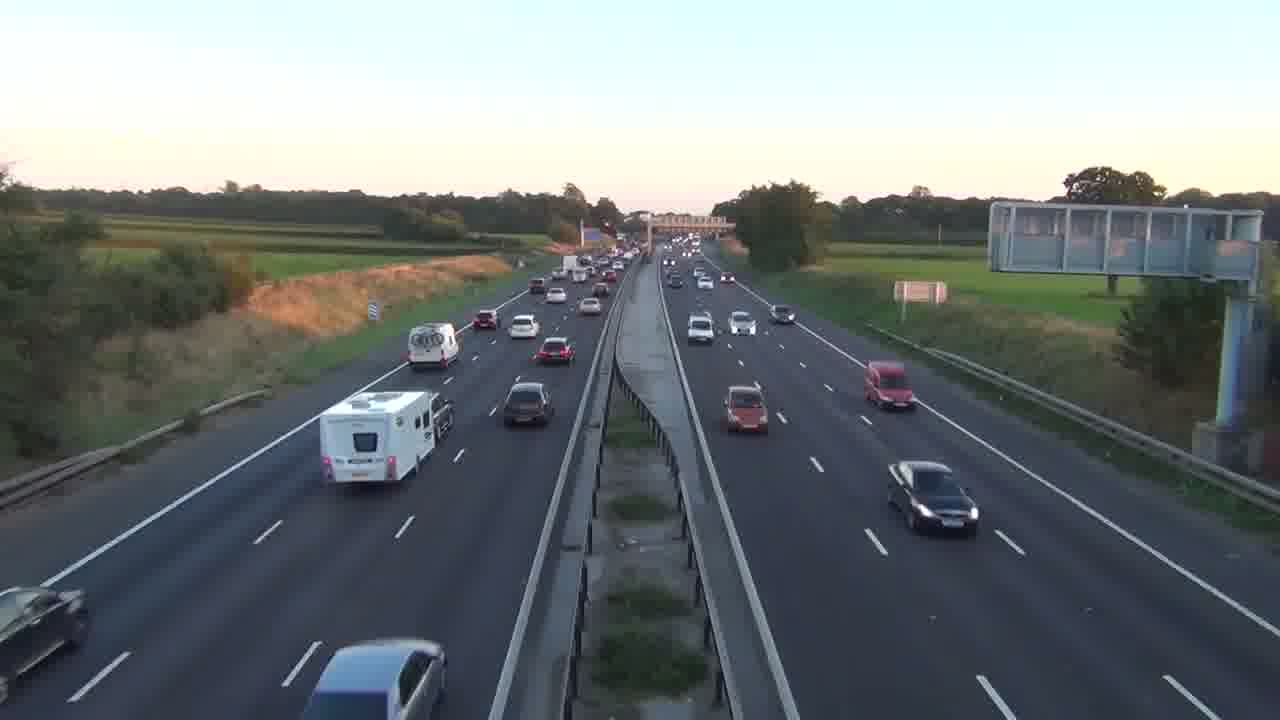bus: (319, 388, 453, 484)
car: (301, 636, 448, 719), (0, 585, 91, 685), (886, 459, 981, 537), (721, 384, 769, 435), (503, 380, 552, 426), (532, 336, 577, 366), (508, 314, 538, 340), (576, 296, 603, 317)
truck: (863, 359, 914, 411)
